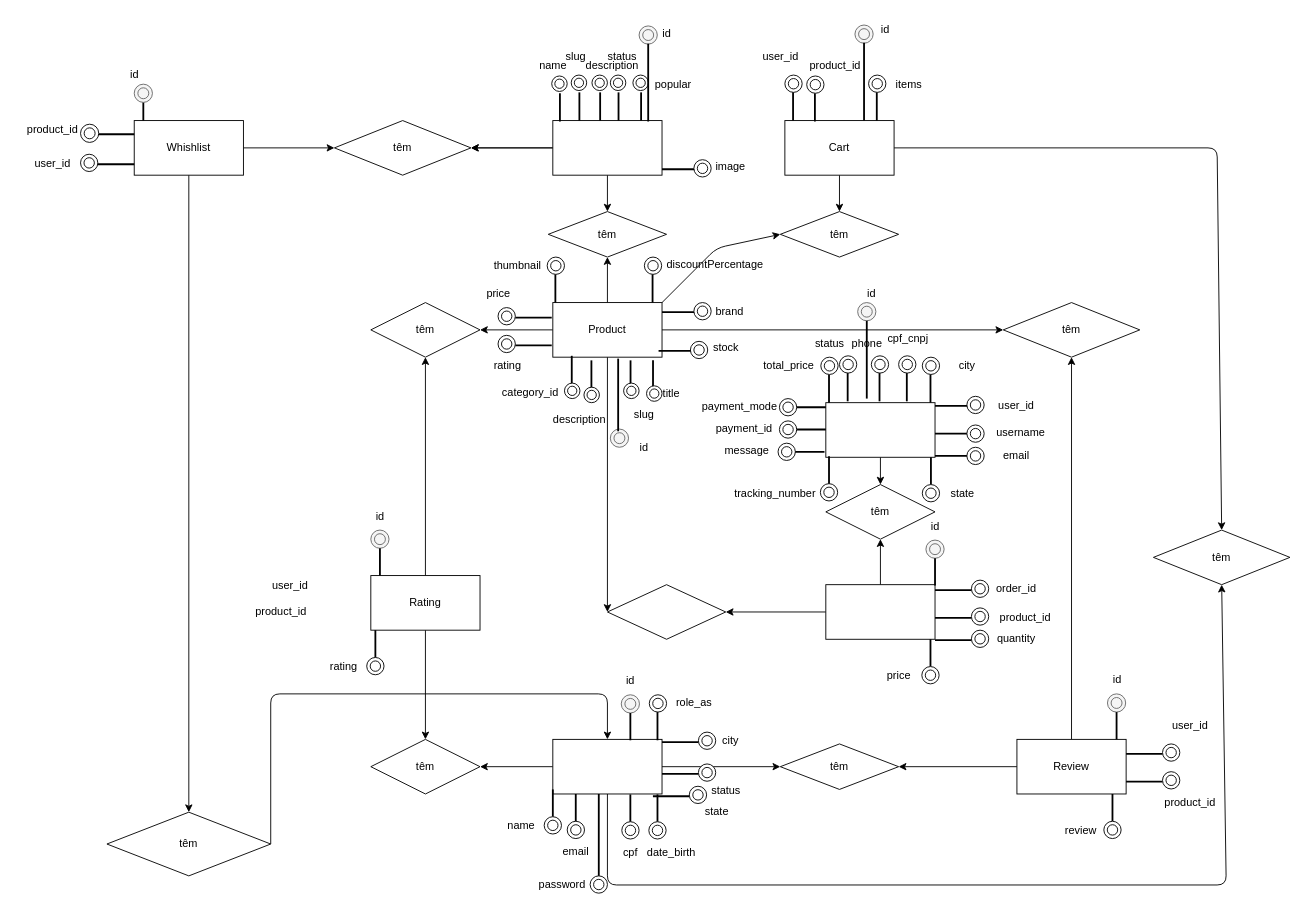
Some shapes in this 1306 by 915 pixel diagram are drawn without their labels. The centre of each missing label's shape, as x and y in pixels:
"Category" goes at (607,147).
"Order" goes at (880,429).
"OrderItem" goes at (880,611).
"representa" goes at (666,611).
"User" goes at (607,766).
